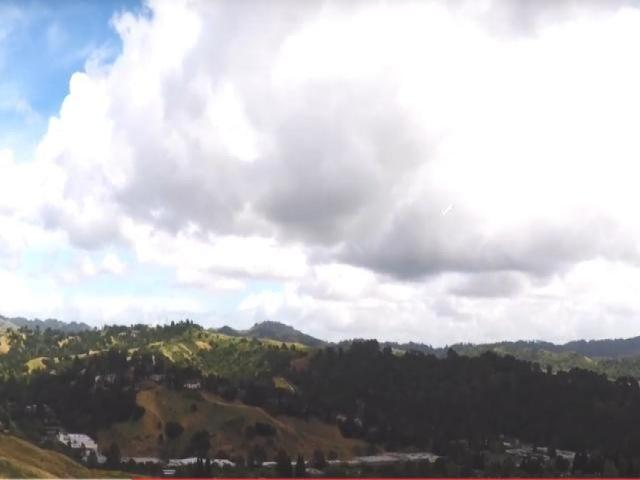iha: (441, 201, 455, 217)
